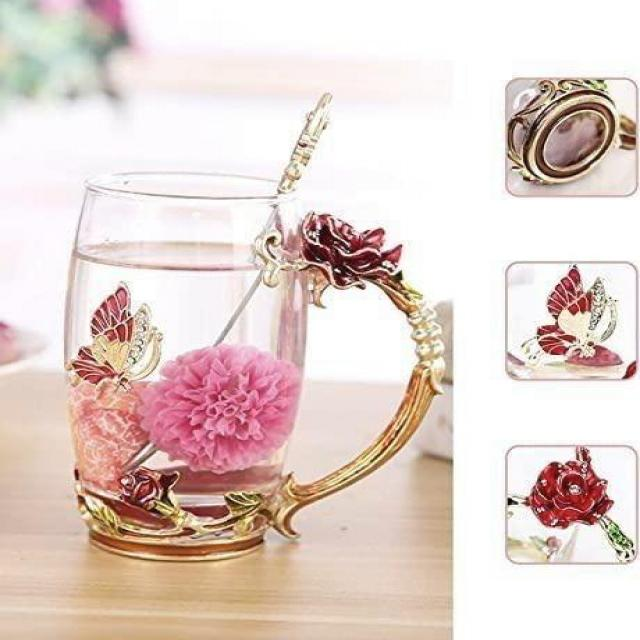glass-mug: (53, 162, 451, 572)
